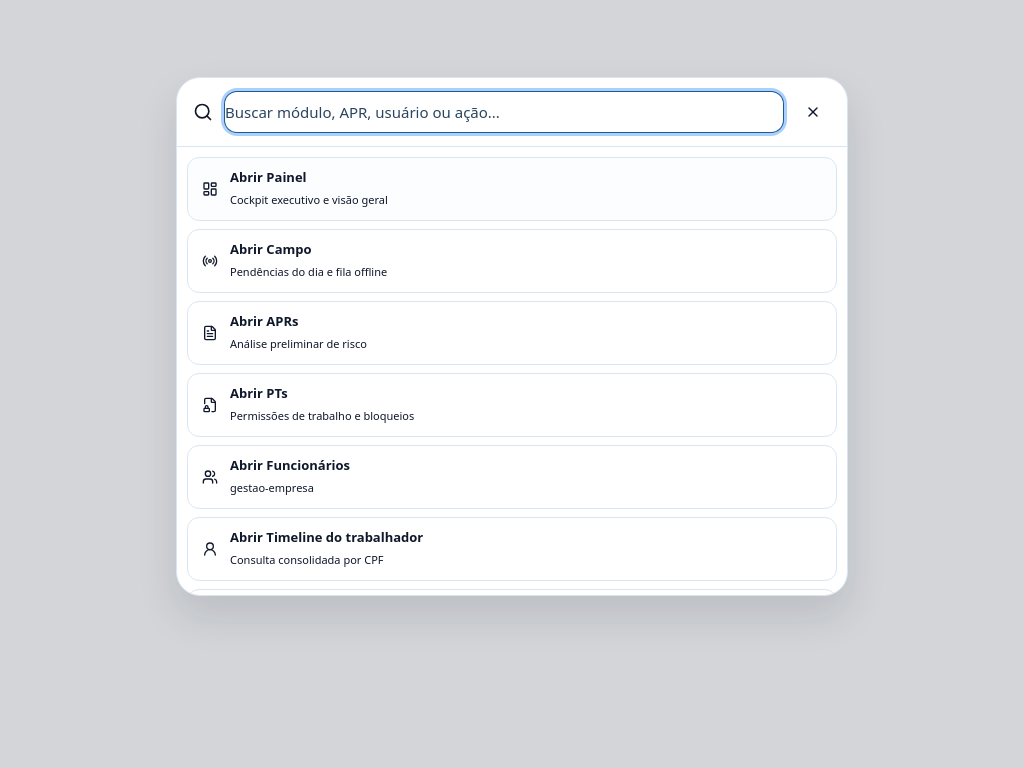
CommandPalette › não consulta nem mostra usuários sem CAN_MANAGE_USERS
Type "alt" into the dropdown named "Buscar ações rápidas". click: (504, 112)
box: [225,92,783,132]
Wait 300 ms
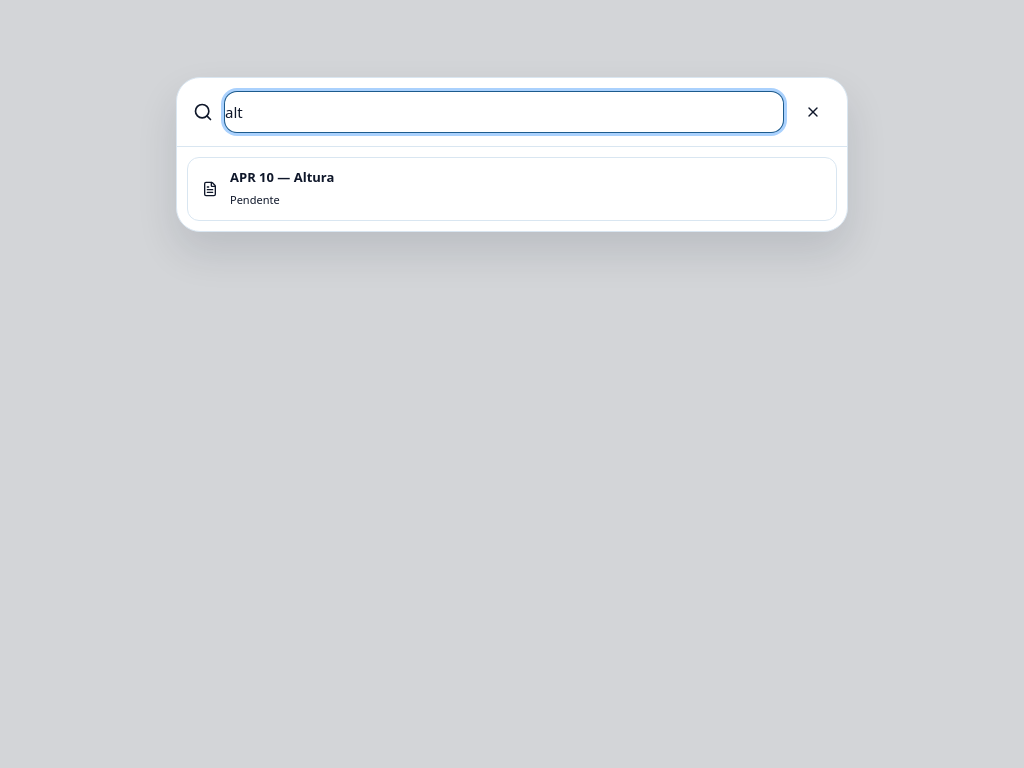
Check: the option "APR 10 — Altura Pendente" is shown, box [187,157,837,221]
